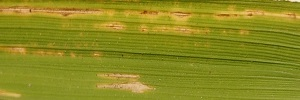RiceBacterialBlight: (1, 3, 300, 39), (94, 66, 154, 97)
